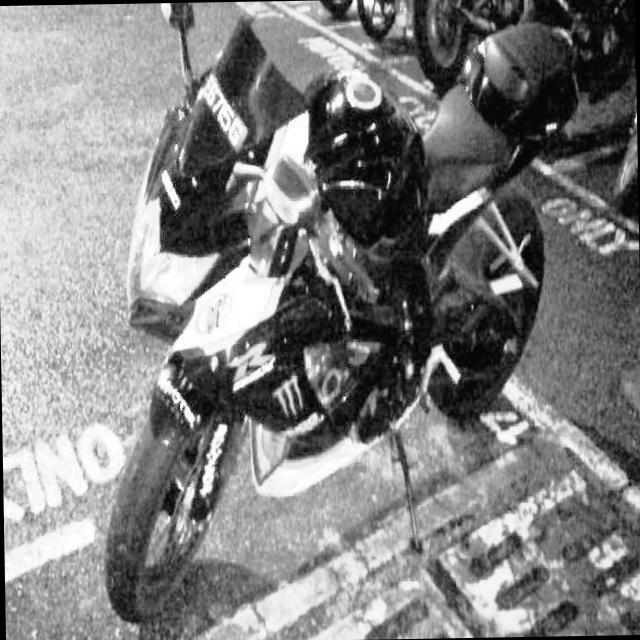Motorcycle: (91, 0, 552, 638)
